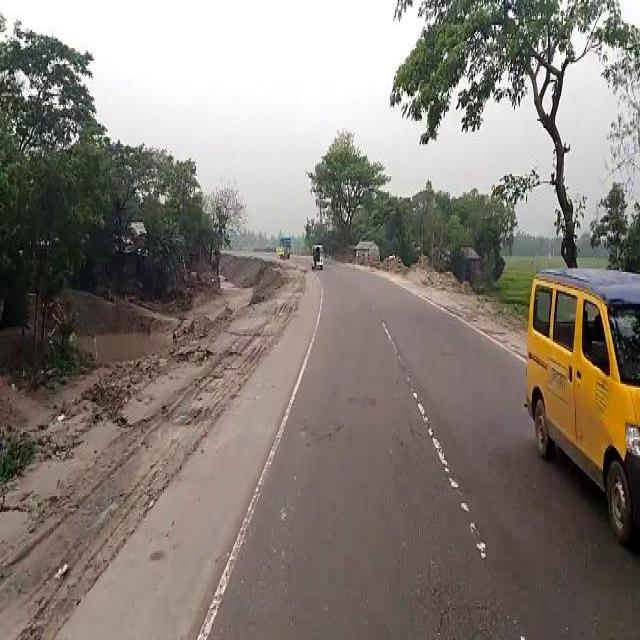vehicle: (528, 266, 640, 547), (312, 245, 325, 270), (280, 239, 293, 255), (284, 248, 288, 259)
